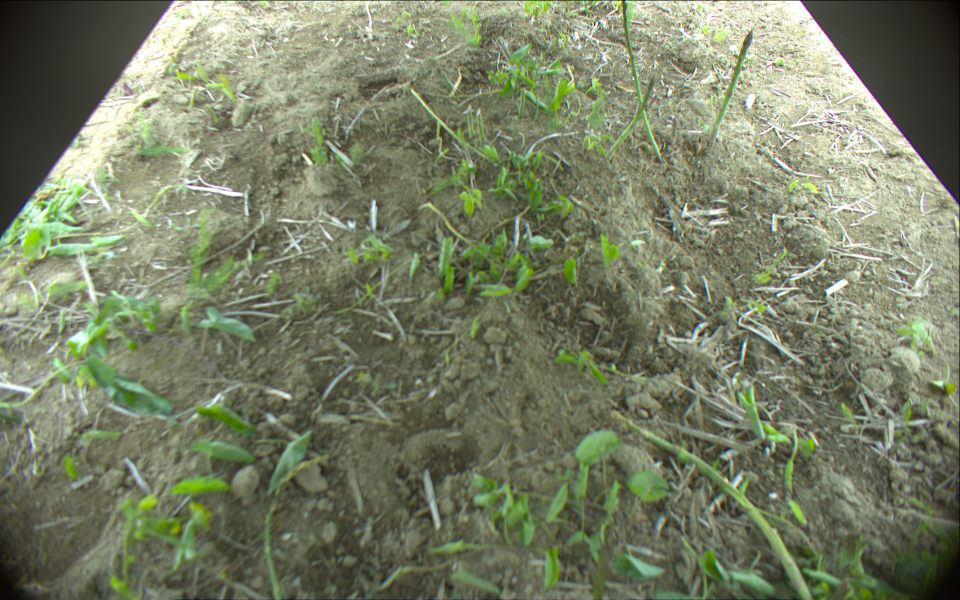aspa: (613, 411, 814, 600), (262, 454, 329, 600), (411, 89, 495, 163), (621, 1, 658, 159), (708, 29, 753, 140), (605, 75, 654, 158), (477, 108, 488, 143), (468, 102, 477, 140), (518, 85, 528, 119)
